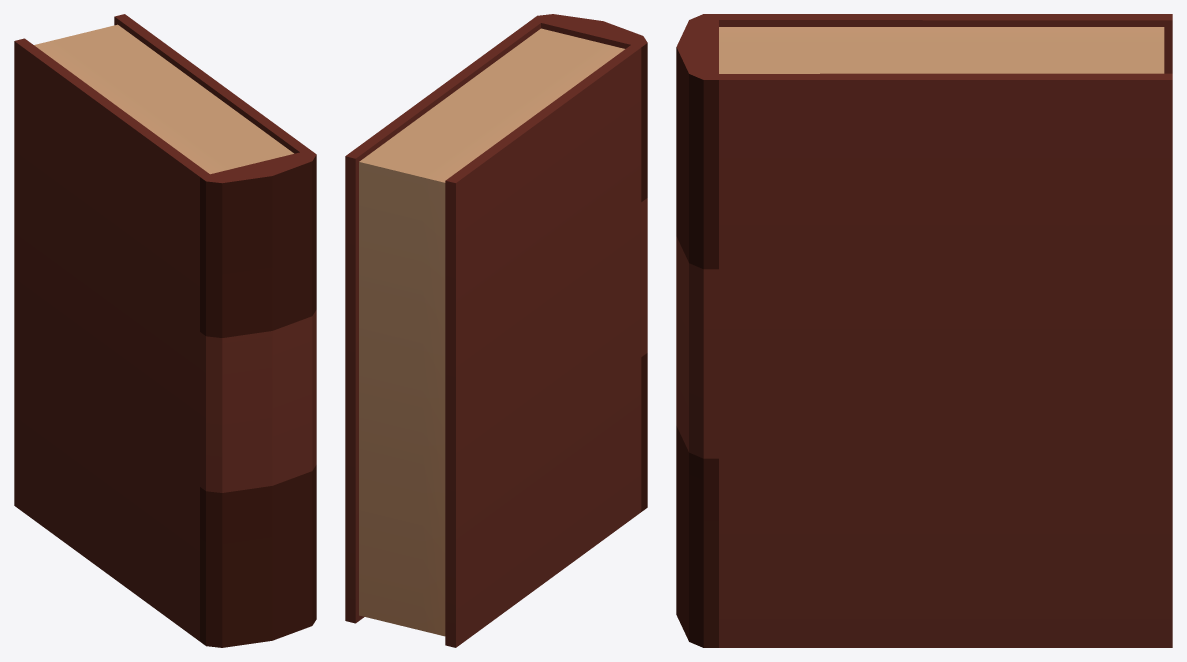
Rendered from Book_red_D.fbx.
3 renders of one model, left to right at view 1: azimuth 30°, elevation 25°; view 2: azimuth 150°, elevation 25°; view 3: azimuth 270°, elevation 25°, orthographic. The views are drawn at different scales.
Visible parts, largest first — view 1: Book_red_D; view 2: Book_red_D; view 3: Book_red_D.
Boxes of the visible parts, x1,y1,x2,y2 form: Book_red_D: (14,14,316,647); Book_red_D: (345,14,647,647); Book_red_D: (676,14,1172,647).
Bounding box in the file's own units: 6.32 × 25.38 × 20.08.
